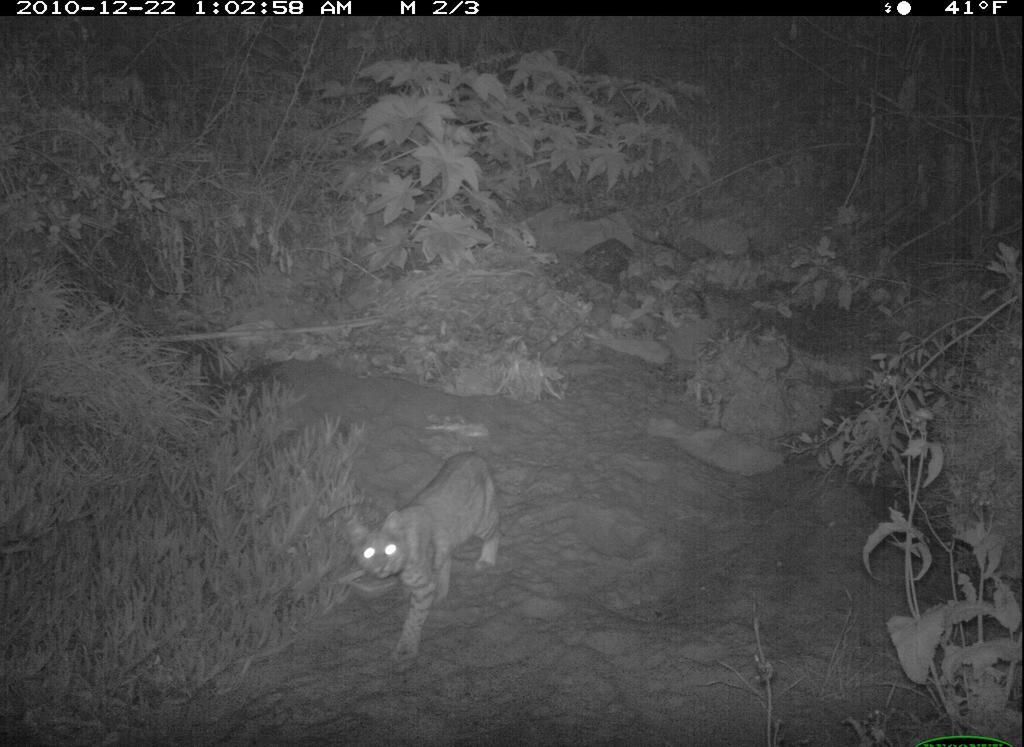bobcat: (337, 449, 518, 670)
